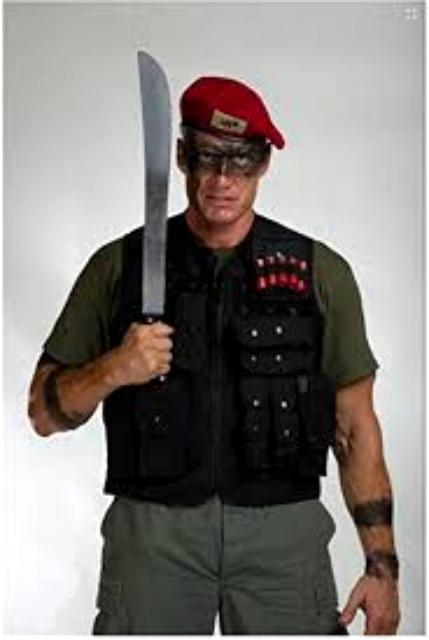long knife: (102, 50, 204, 408)
